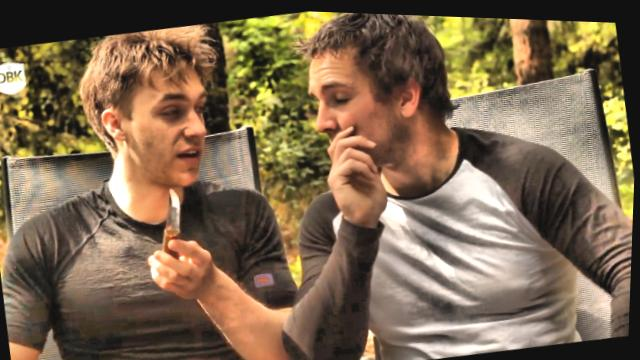knife: (131, 166, 225, 284)
